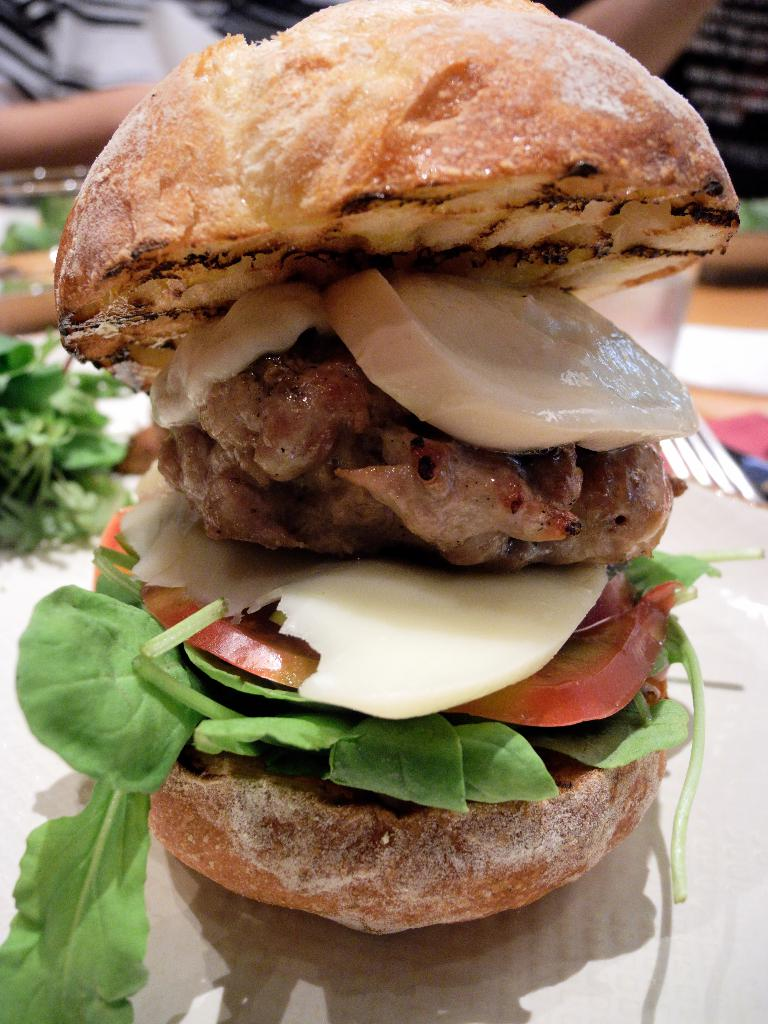Hamburger: (0, 0, 762, 1023)
